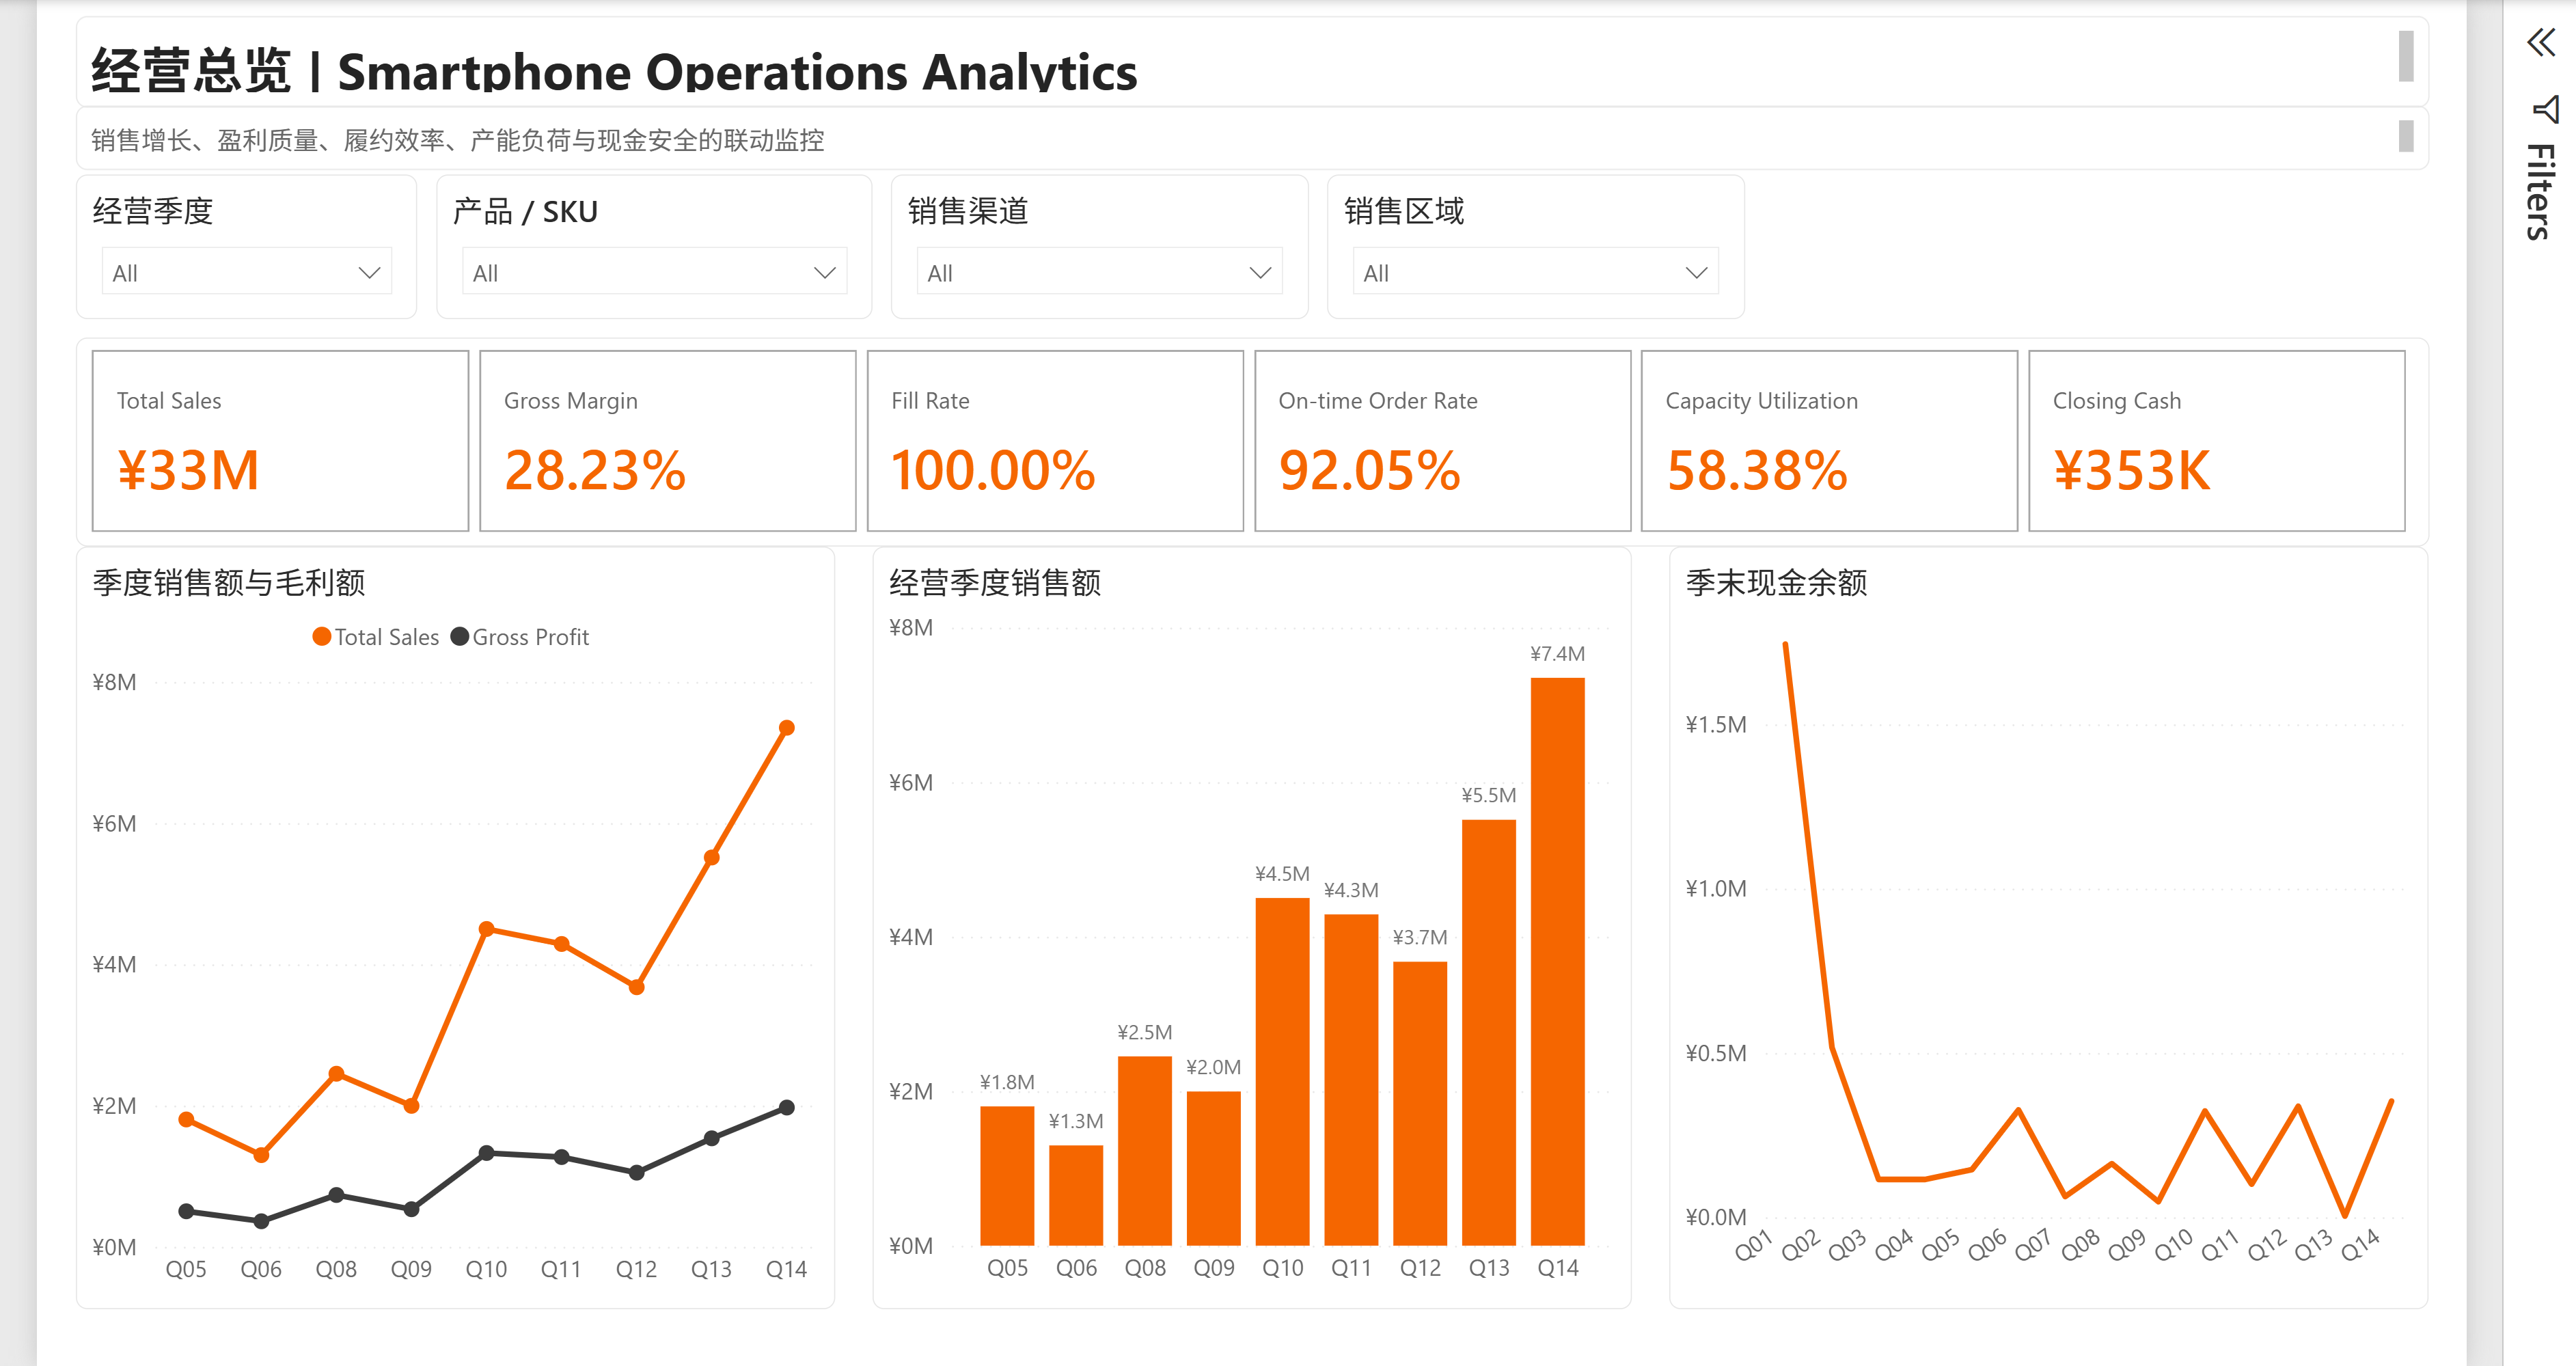

What the dashboard file says about the page in this screenshot:
{"tool":"powerbi","page":{"name":"1 经营总览","canvas":[1280,720],"ordinal":0},"visuals":[{"type":"textbox","box":[20,8,1240,48],"z":1000},{"type":"textbox","box":[20,56,1240,34],"z":2000},{"type":"slicer","title":"经营季度","fields":{"Values":["dim_date.business_quarter"]},"box":[20,92,180,76],"z":3000},{"type":"slicer","title":"产品 / SKU","fields":{"Values":["dim_product.product_name"]},"box":[210,92,230,76],"z":4000},{"type":"slicer","title":"销售渠道","fields":{"Values":["dim_channel.channel_name"]},"box":[450,92,220,76],"z":5000},{"type":"slicer","title":"销售区域","fields":{"Values":["dim_region.region_name"]},"box":[680,92,220,76],"z":6000},{"type":"cardVisual","fields":{"Data":["_Measures.Total Sales","_Measures.Gross Margin","_Measures.Fill Rate","_Measures.On-time Order Rate","_Measures.Capacity Utilization","_Measures.Closing Cash"]},"box":[20,178,1240,110],"z":7000},{"type":"lineChart","title":"季度销售额与毛利额","fields":{"Category":["dim_date.business_quarter"],"Y":["_Measures.Total Sales","_Measures.Gross Profit"]},"box":[20,288,400,402],"z":8000},{"type":"clusteredColumnChart","title":"经营季度销售额","fields":{"Category":["dim_date.business_quarter"],"Y":["_Measures.Total Sales"]},"box":[440,288,400,402],"z":9000},{"type":"lineChart","title":"季末现金余额","fields":{"Category":["dim_date.business_quarter"],"Y":["_Measures.Closing Cash"]},"box":[860,288,400,402],"z":10000}]}

Visuals, with their boxes on the page's 1280x720 design canvas (x1, y1, x2, y2). These are canvas units, not pixel positions in the 2576x1366 screenshot, which may show the page scaled, cropped or inside an application window:
textbox: (left=20, top=8, right=1260, bottom=56)
textbox: (left=20, top=56, right=1260, bottom=90)
"经营季度" slicer: (left=20, top=92, right=200, bottom=168)
"产品 / SKU" slicer: (left=210, top=92, right=440, bottom=168)
"销售渠道" slicer: (left=450, top=92, right=670, bottom=168)
"销售区域" slicer: (left=680, top=92, right=900, bottom=168)
cardVisual - _Measures.Total Sales x _Measures.Gross Margin: (left=20, top=178, right=1260, bottom=288)
"季度销售额与毛利额" lineChart: (left=20, top=288, right=420, bottom=690)
"经营季度销售额" clusteredColumnChart: (left=440, top=288, right=840, bottom=690)
"季末现金余额" lineChart: (left=860, top=288, right=1260, bottom=690)
